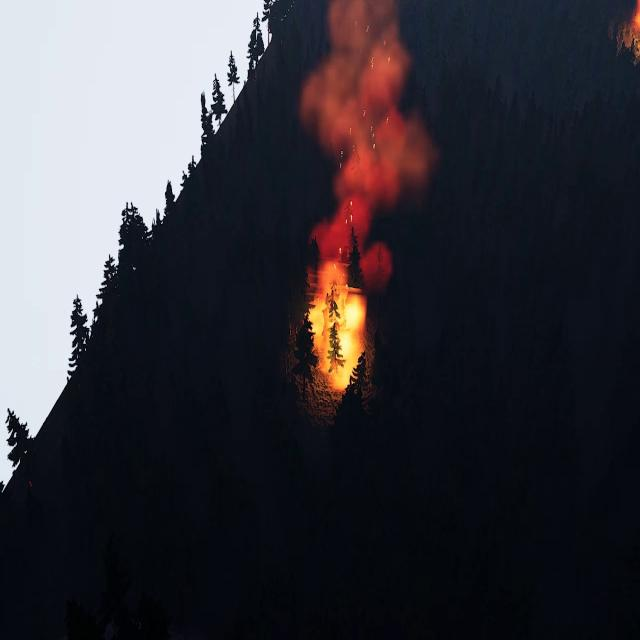fire: (308, 281, 371, 389), (631, 0, 640, 60)
smoke: (299, 1, 429, 285)
